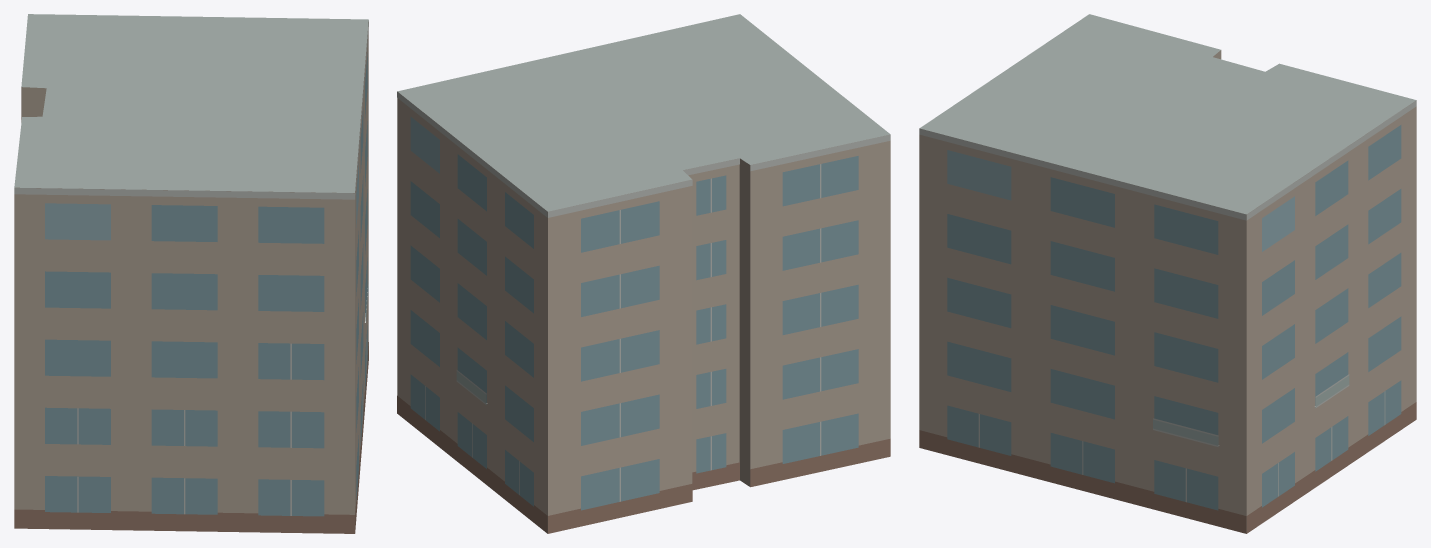
Rendered from survey-upis-32974831.glb.
3 renders of one model, left to right at view 1: azimuth 30°, elevation 25°; view 2: azimuth 150°, elevation 25°; view 3: azimuth 270°, elevation 25°, orthographic. The views are drawn at different scales.
Parts seen in each view (by area): view 1: survey-upis-32974831.tmp; view 2: survey-upis-32974831.tmp; view 3: survey-upis-32974831.tmp.
Boxes of the visible parts, x1=… form: survey-upis-32974831.tmp: x1=14, y1=14, x2=368, y2=533; survey-upis-32974831.tmp: x1=397, y1=14, x2=890, y2=533; survey-upis-32974831.tmp: x1=919, y1=14, x2=1416, y2=533.
Size of the model in its own units: 16.93 by 12.57 by 17.75.
